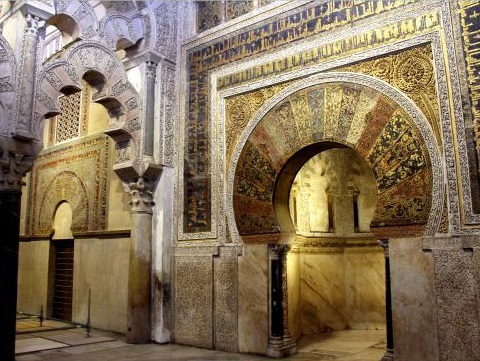arco-herradura: (265, 132, 395, 254)
arco-lobulado: (27, 65, 144, 171)
